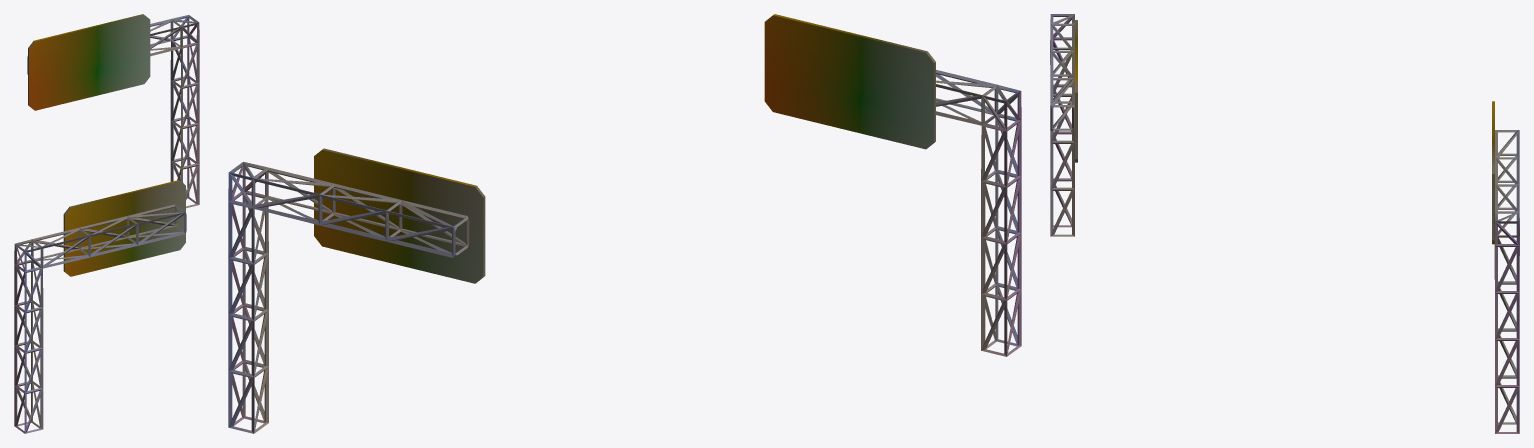
File: StageSign1.fbx
3 views of the same model, side by side, from view 1: azimuth 30°, elevation 25°; view 2: azimuth 150°, elevation 25°; view 3: azimuth 270°, elevation 25° (orthographic). The views are drawn at different scales.
Parts seen in each view (by area): view 1: StageSign1; view 2: StageSign1; view 3: StageSign1.
Boxes of the visible parts, x1,y1,x2,y2 form: StageSign1: [14, 14, 199, 433]; StageSign1: [228, 14, 1021, 433]; StageSign1: [1050, 14, 1519, 433].
Size of the model in its own units: 33.17 by 17.75 by 31.72.
